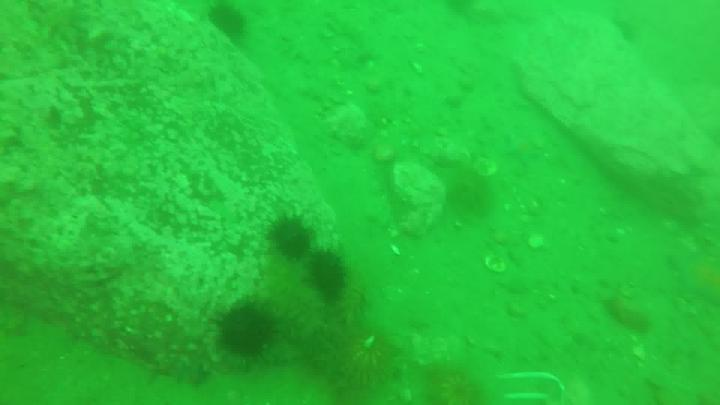echinus: (216, 301, 283, 364), (316, 250, 354, 296), (275, 220, 318, 260), (208, 1, 248, 37)
scallop: (473, 156, 499, 177), (485, 255, 507, 273)
